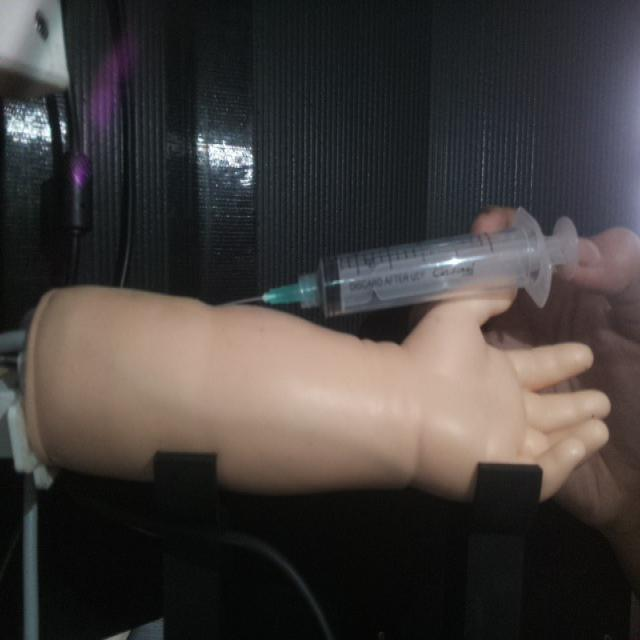Outside: (227, 203, 582, 320)
